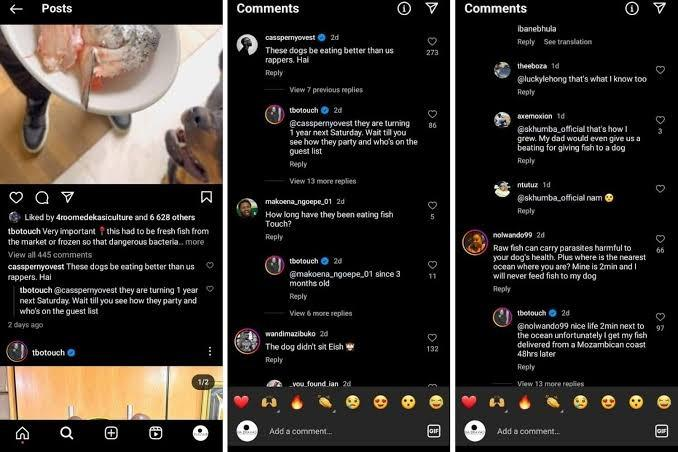adult_dog: (158, 106, 223, 186)
